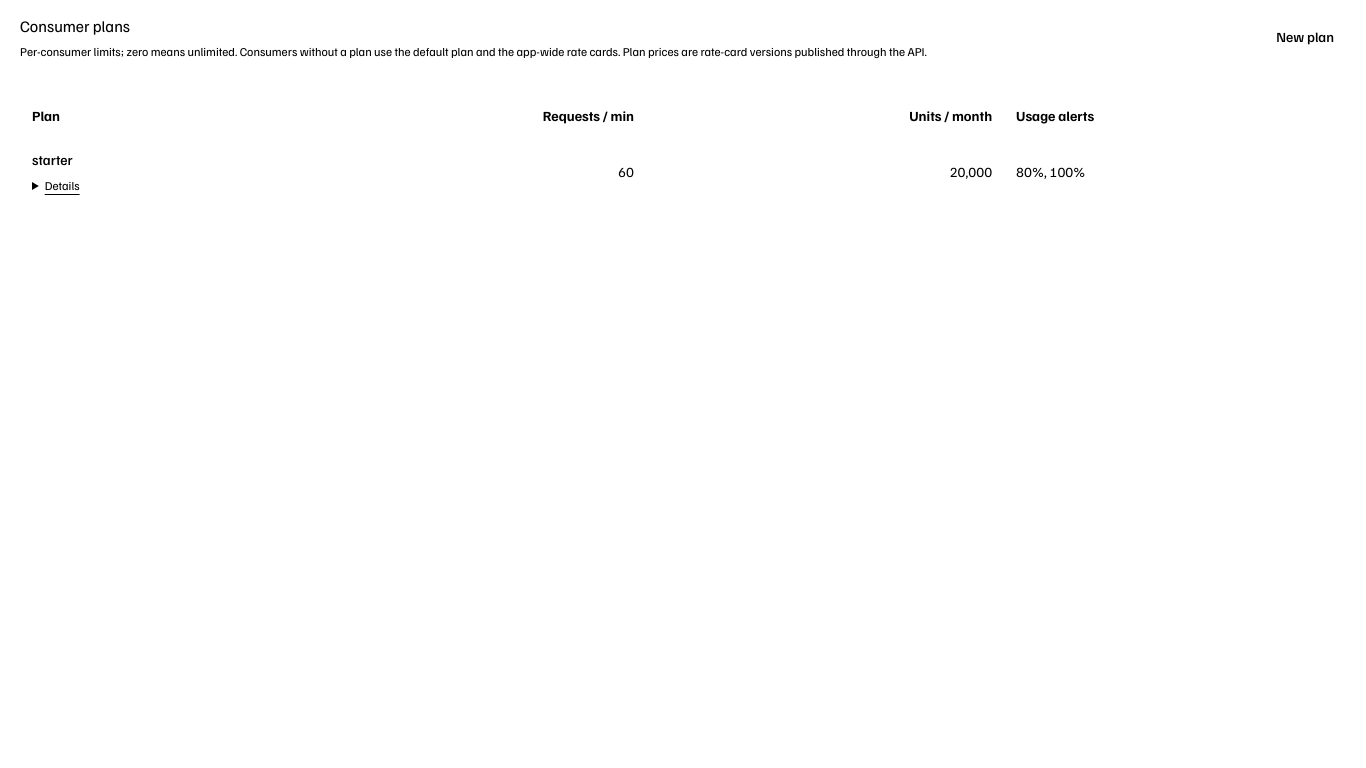
creates a plan, refusing alerts without a monthly limit and reporting a name conflict
Click the button "New plan" at (1295, 37), box [1244,21,1346,53]
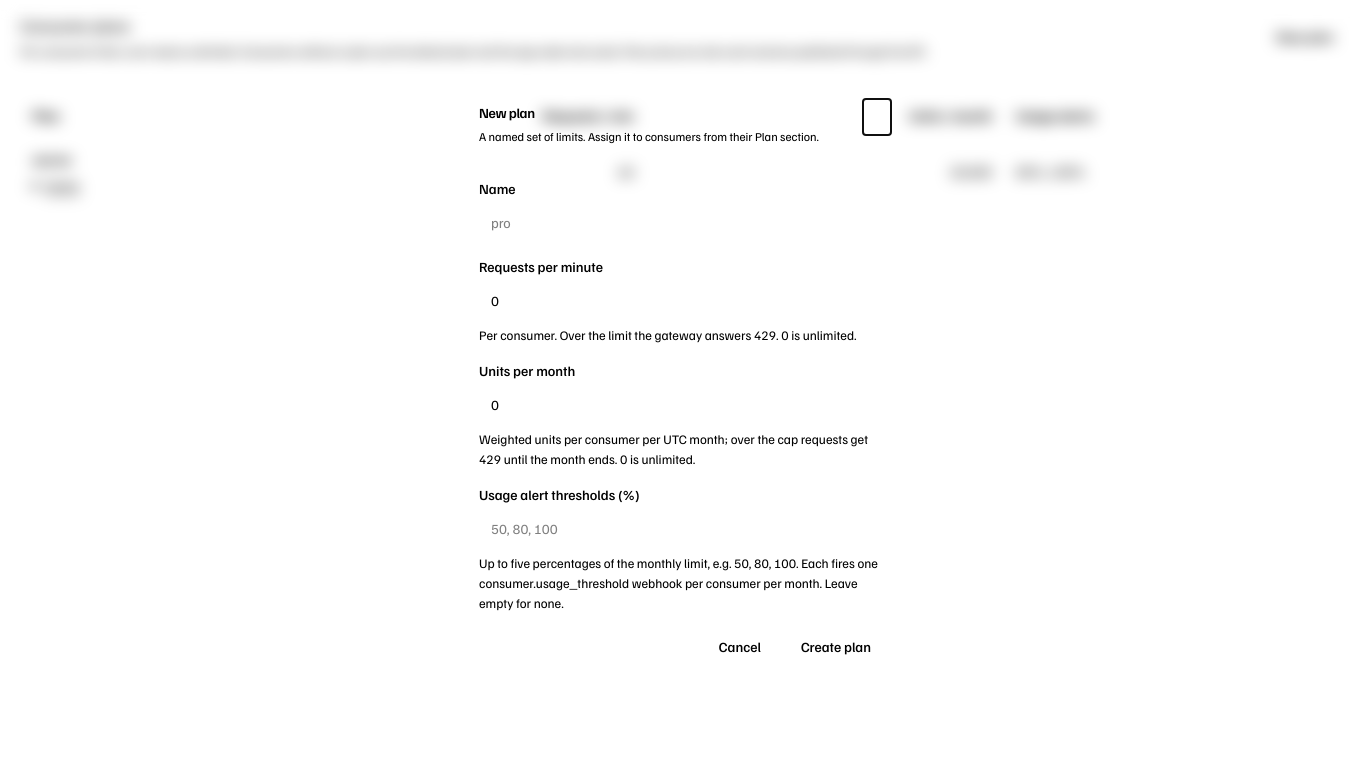
Type "team" into the field labelled "Name" at (683, 223), box [479,205,887,241]
Type "50" into the field labelled "Usage alert thresholds (%)" at (683, 529), box [479,511,887,547]
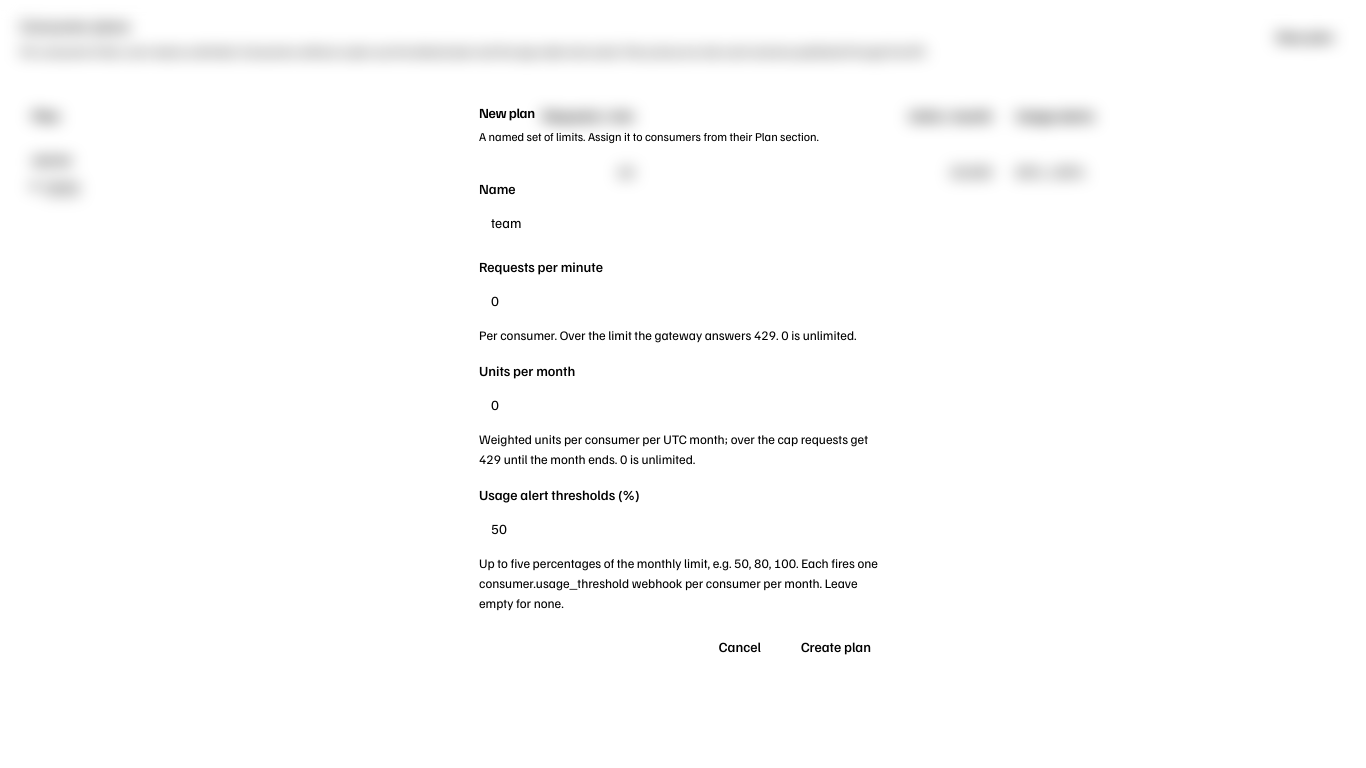
Click the button "Create plan" at (836, 647), box [785,629,887,665]
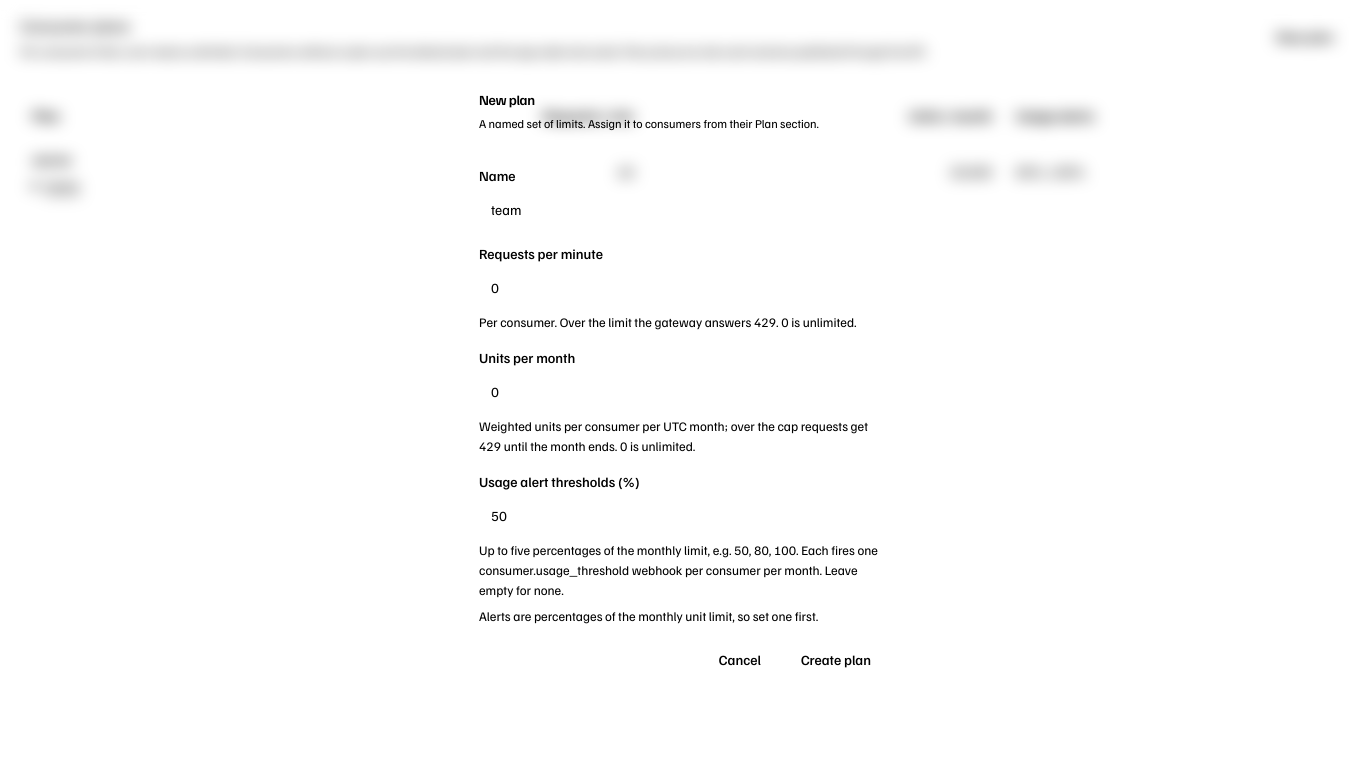
Check: the text "Alerts are percentages of the monthly unit limit, so set one first." is shown, box [479,608,818,624]
Replace the text in the field labelled "Units per month" with "1000" at (683, 392), box [479,374,887,410]
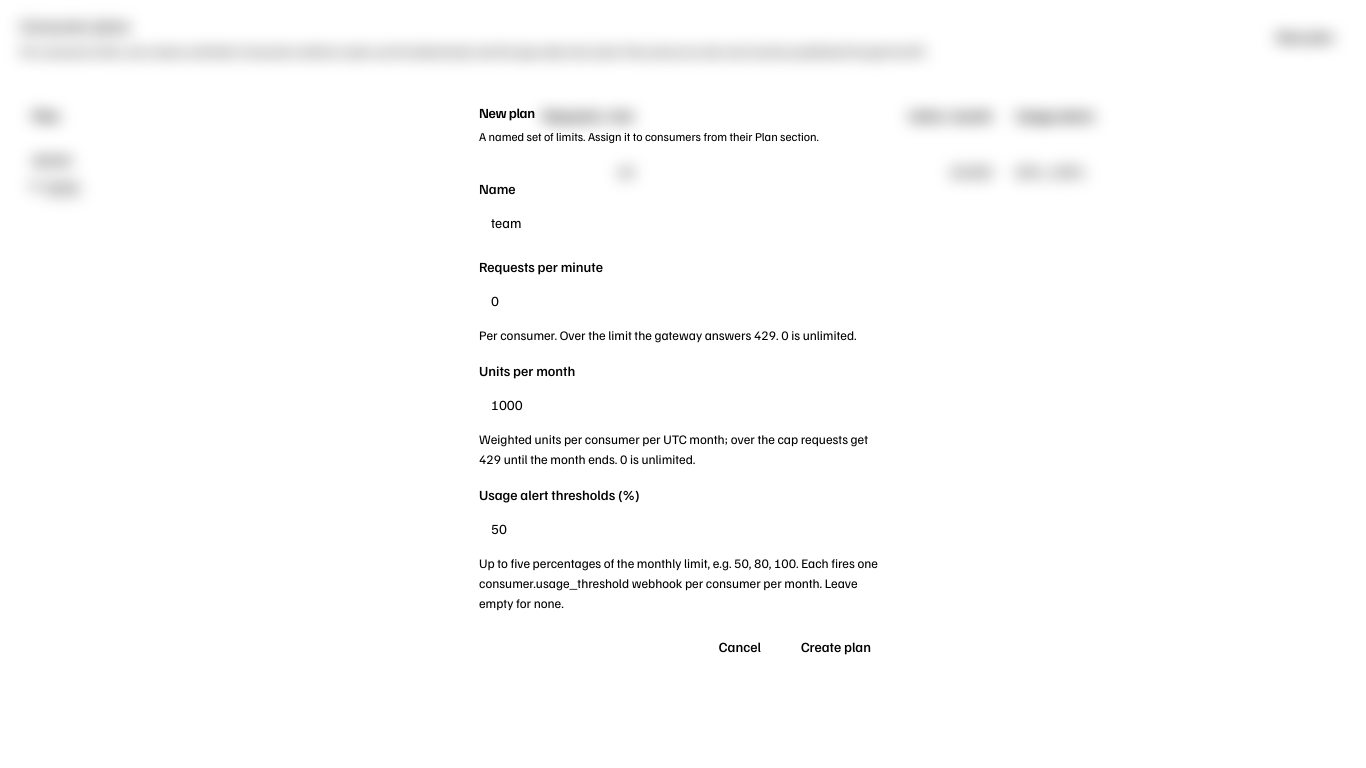
Click the button "Create plan" at (836, 647), box [785,629,887,665]
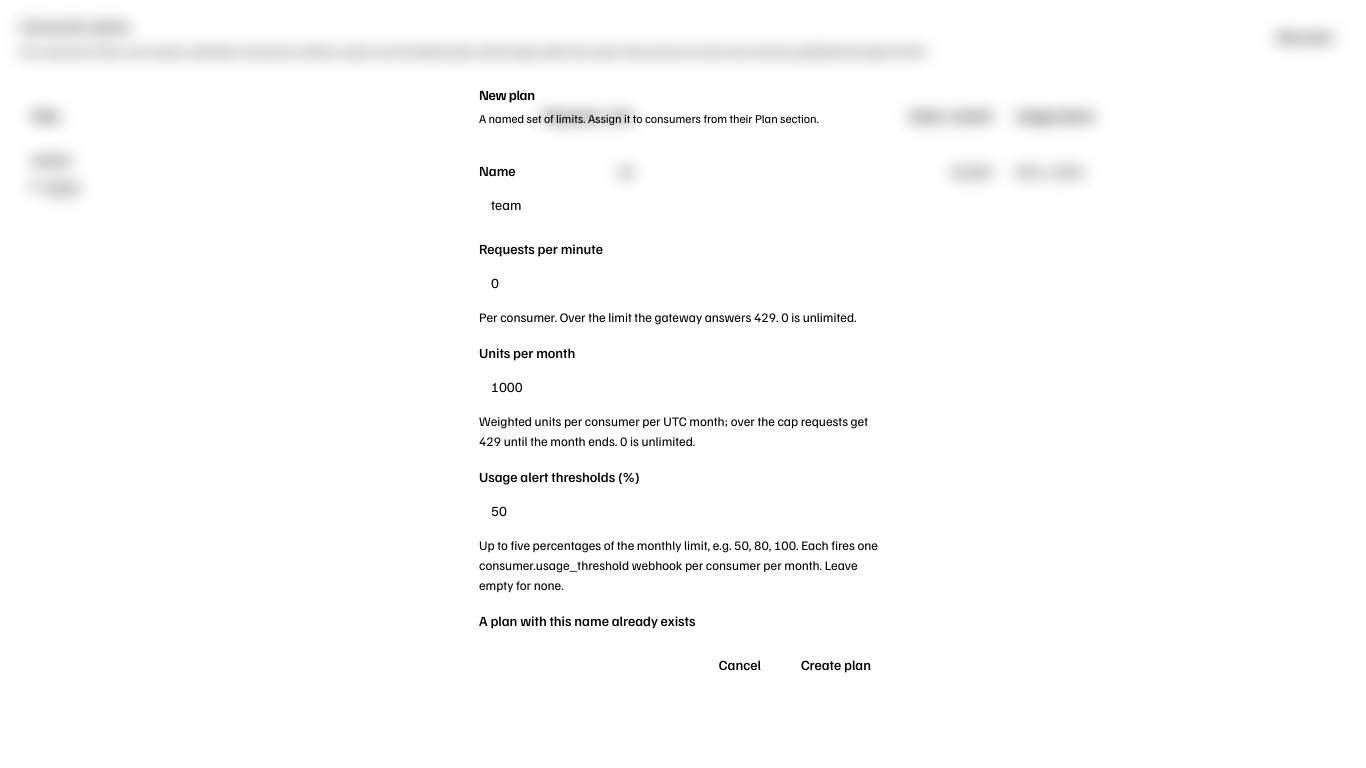
Check: the text "A plan with this name already exists" is shown, box [479,612,695,629]
Click the button "Create plan" at (836, 665), box [785,647,887,683]
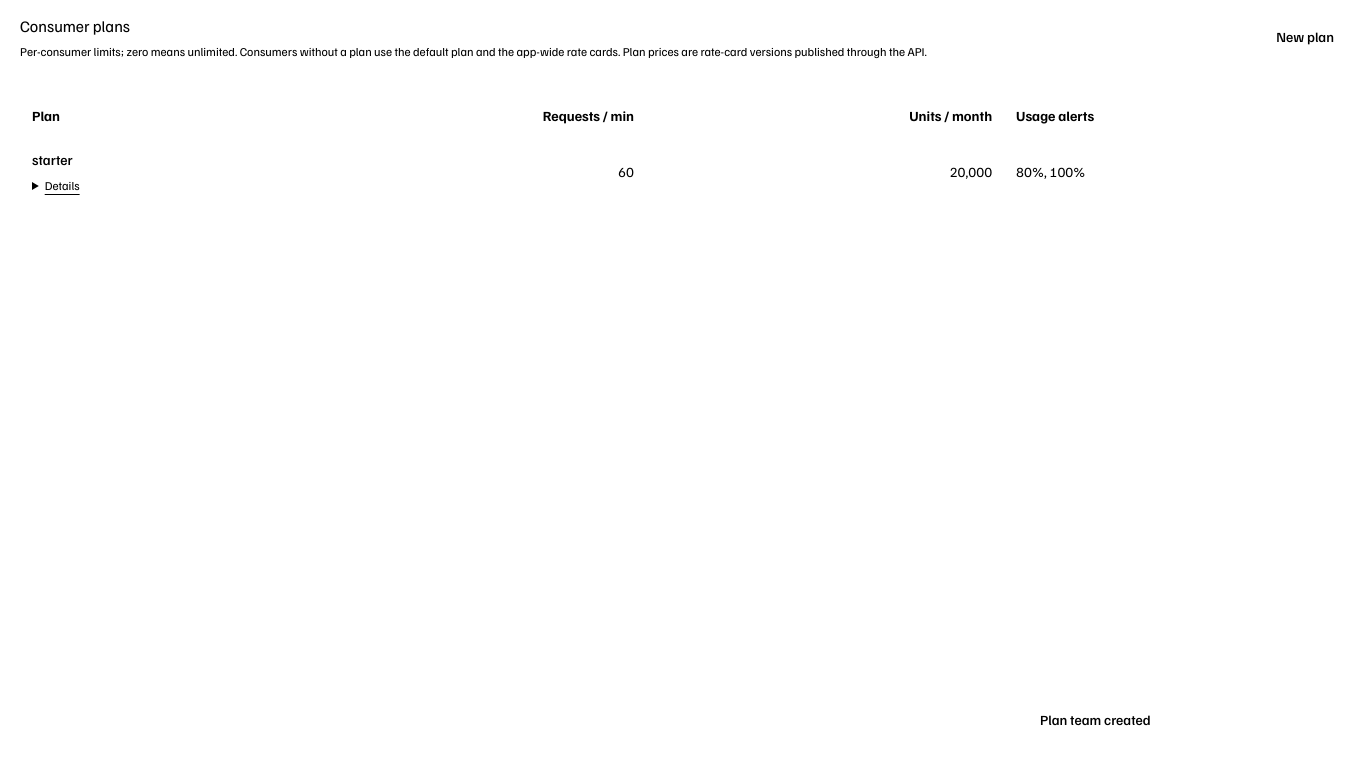
Check: the dialog is gone
